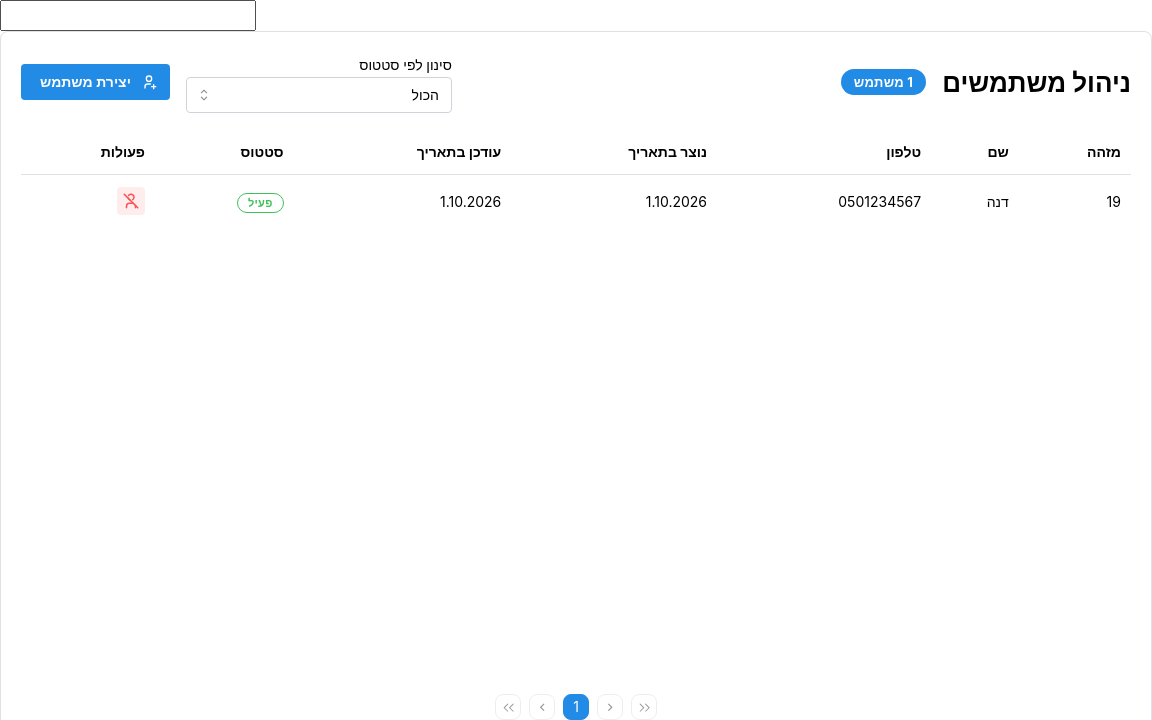
Test case: unavailable phone and backend failures never allow false creation success
Expected: the text "דנה" is shown, [931,175,1019,228]
Click the button "יצירת משתמש".
click(95, 82)  # box [21,64,170,100]
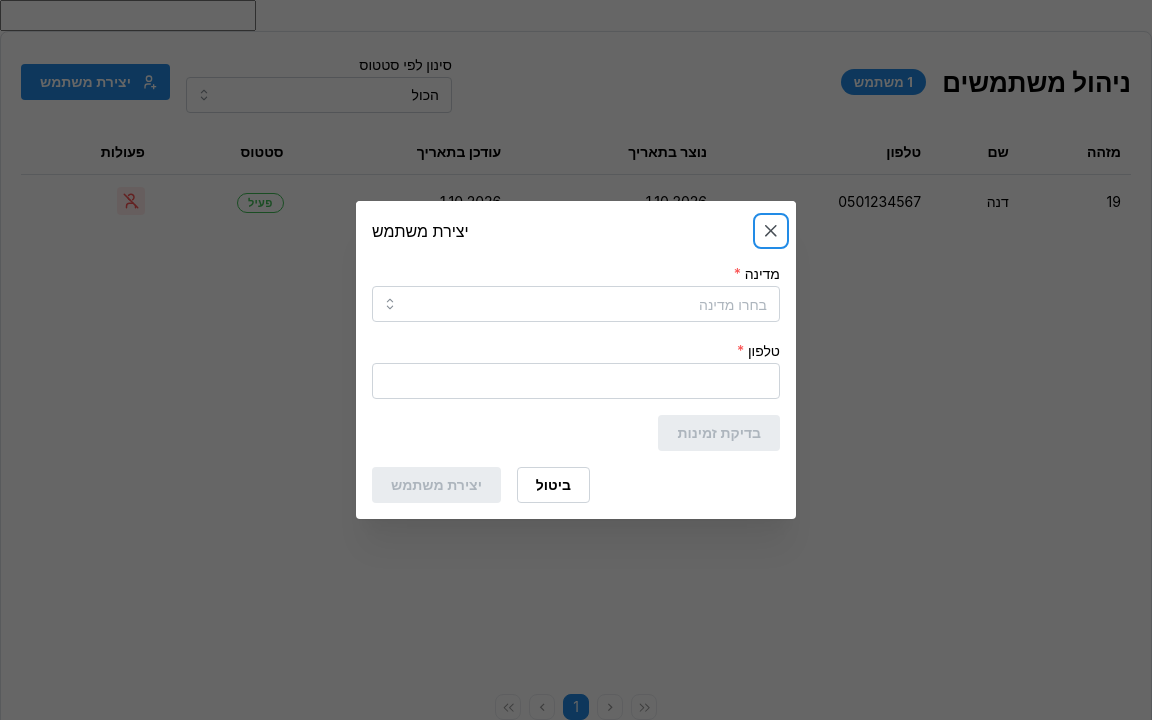
Type "0501234567" into the field labelled "טלפון".
click(576, 381); type("0501234567")  # box [372,363,780,399]
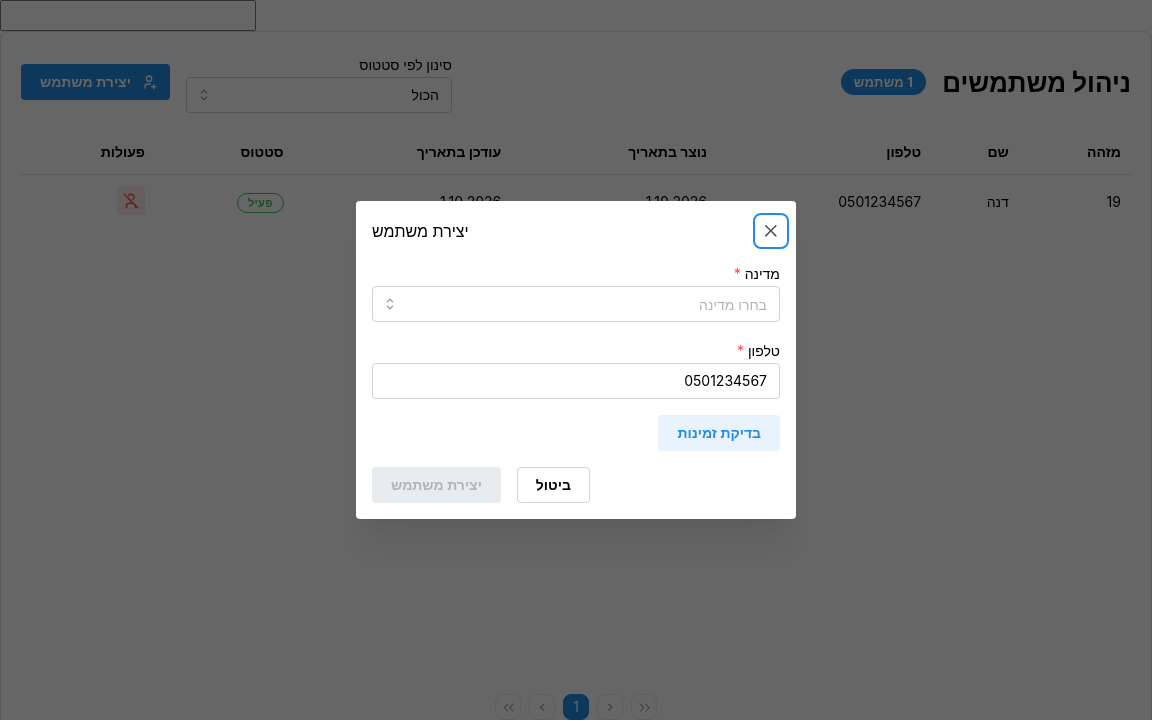
Click the button "בדיקת זמינות".
click(719, 433)  # box [658,415,780,451]
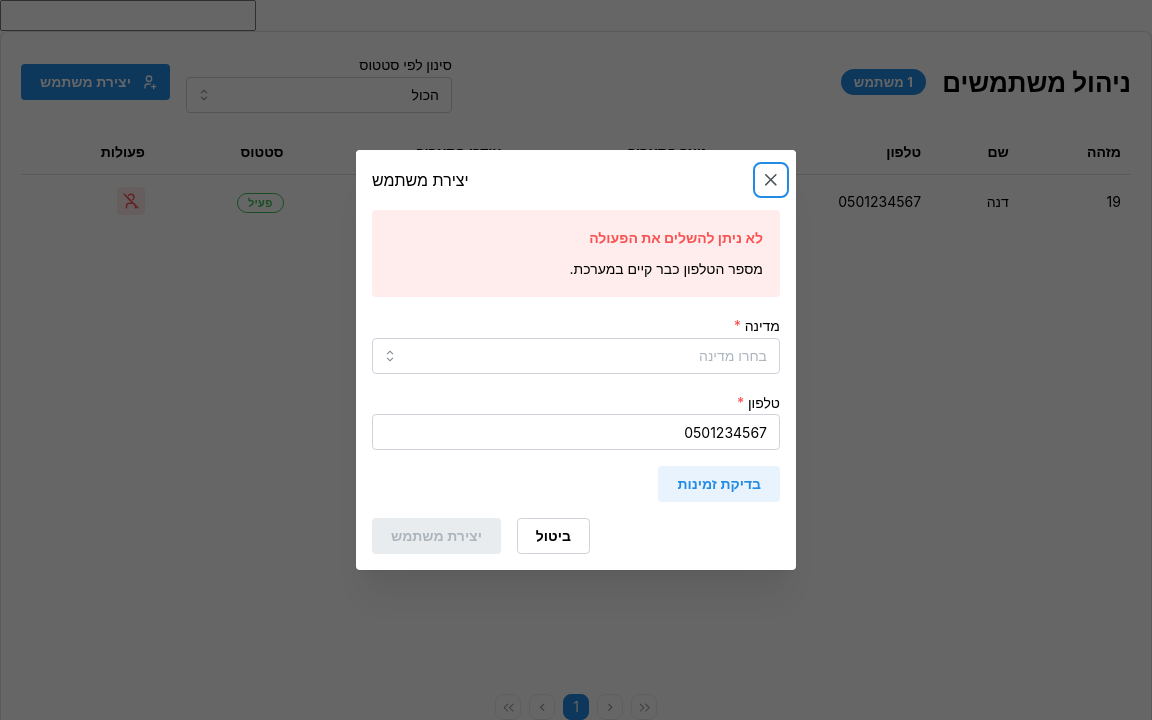
Result: the button "יצירת משתמש" is disabled at [372,518,501,554]
Result: the text "מספר הטלפון כבר קיים במערכת." is shown at [570,260,763,277]
Replace the text in the field labelled "טלפון" with "0500000000" at [576, 432], box [372,414,780,450]
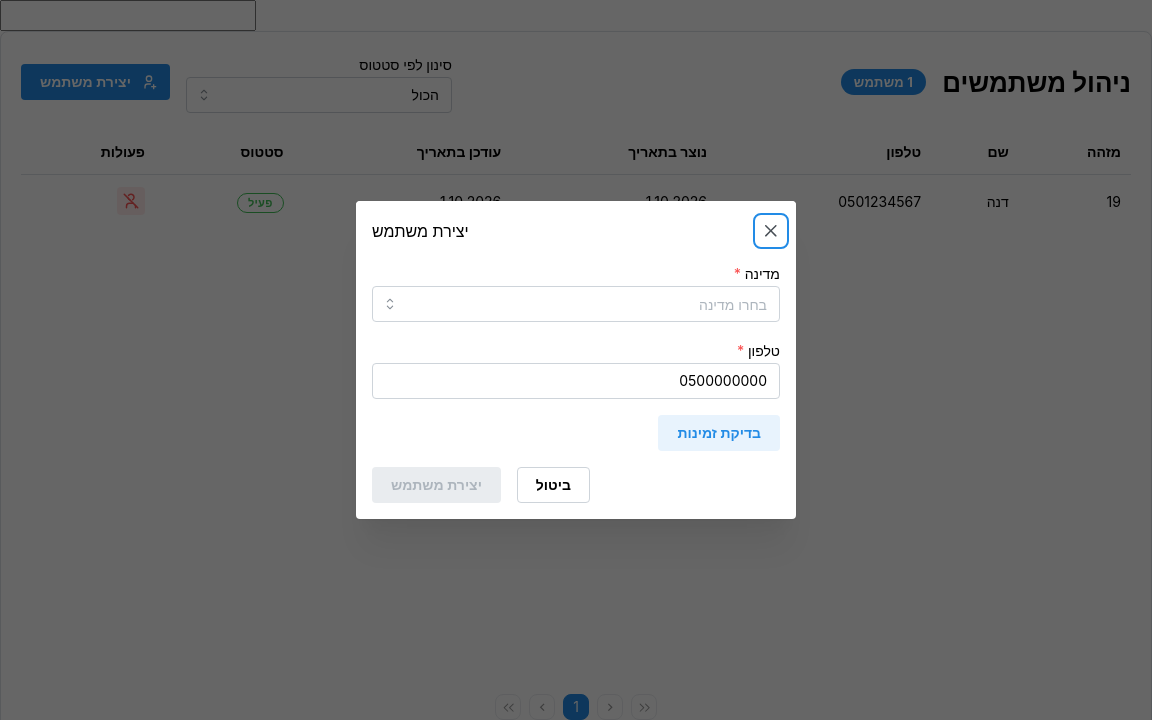
Click the button "בדיקת זמינות".
click(719, 433)  # box [658,415,780,451]
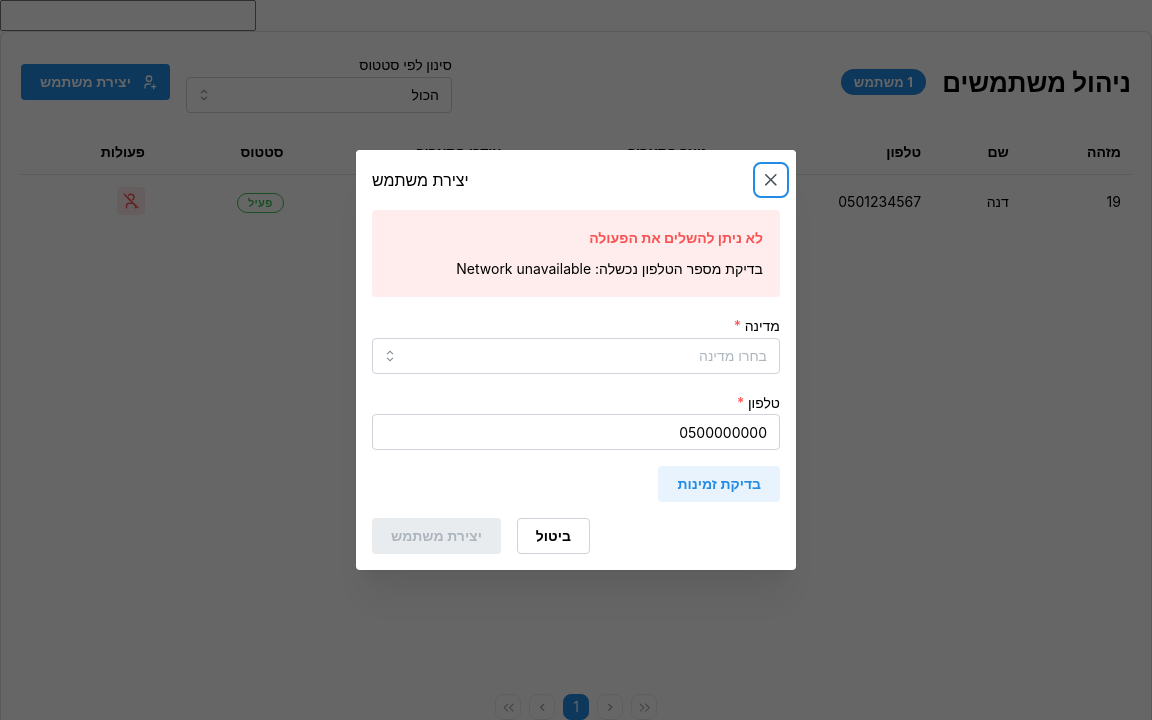
Result: the text "בדיקת מספר הטלפון נכשלה: Network unavailable" is shown at [456,260,763,277]
